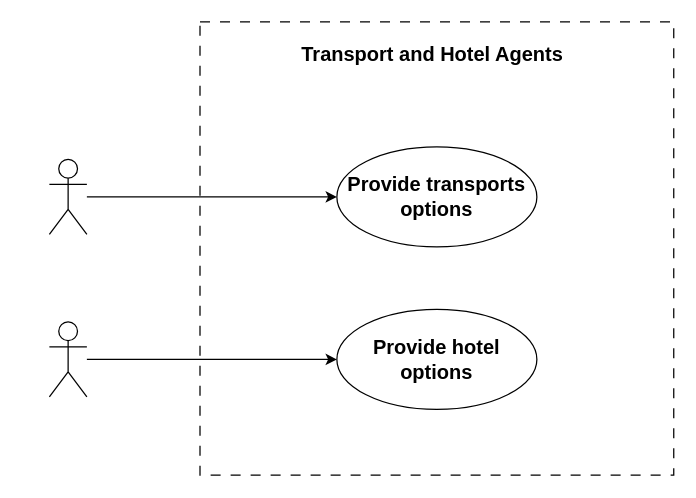
Some shapes in this 696 by 498 pixel diagram are drawn without their labels. Here are the shapes that lost their labels. From the top down, the centre of each, then its label:
pixel 67 196: Transport
pixel 67 359: Hotel
